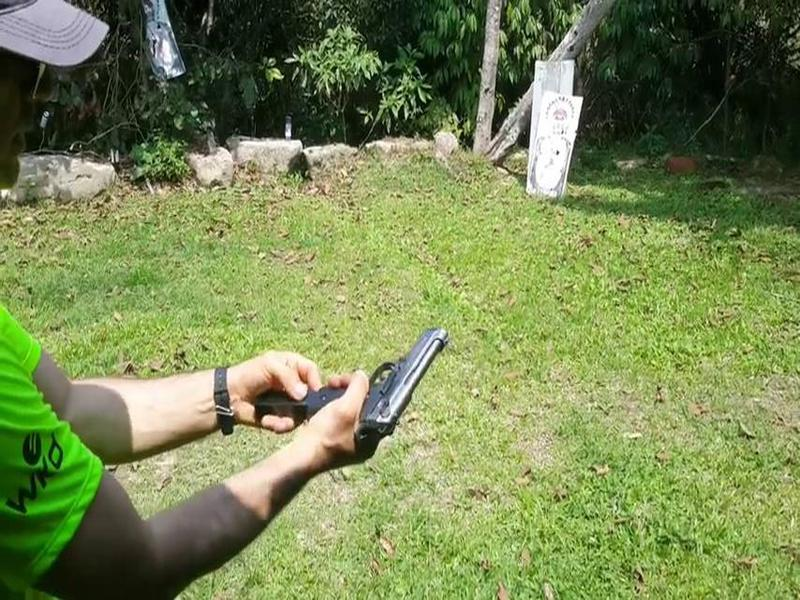Pistola: (303, 321, 458, 452)
